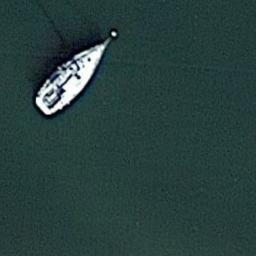boat: (33, 30, 115, 117)
